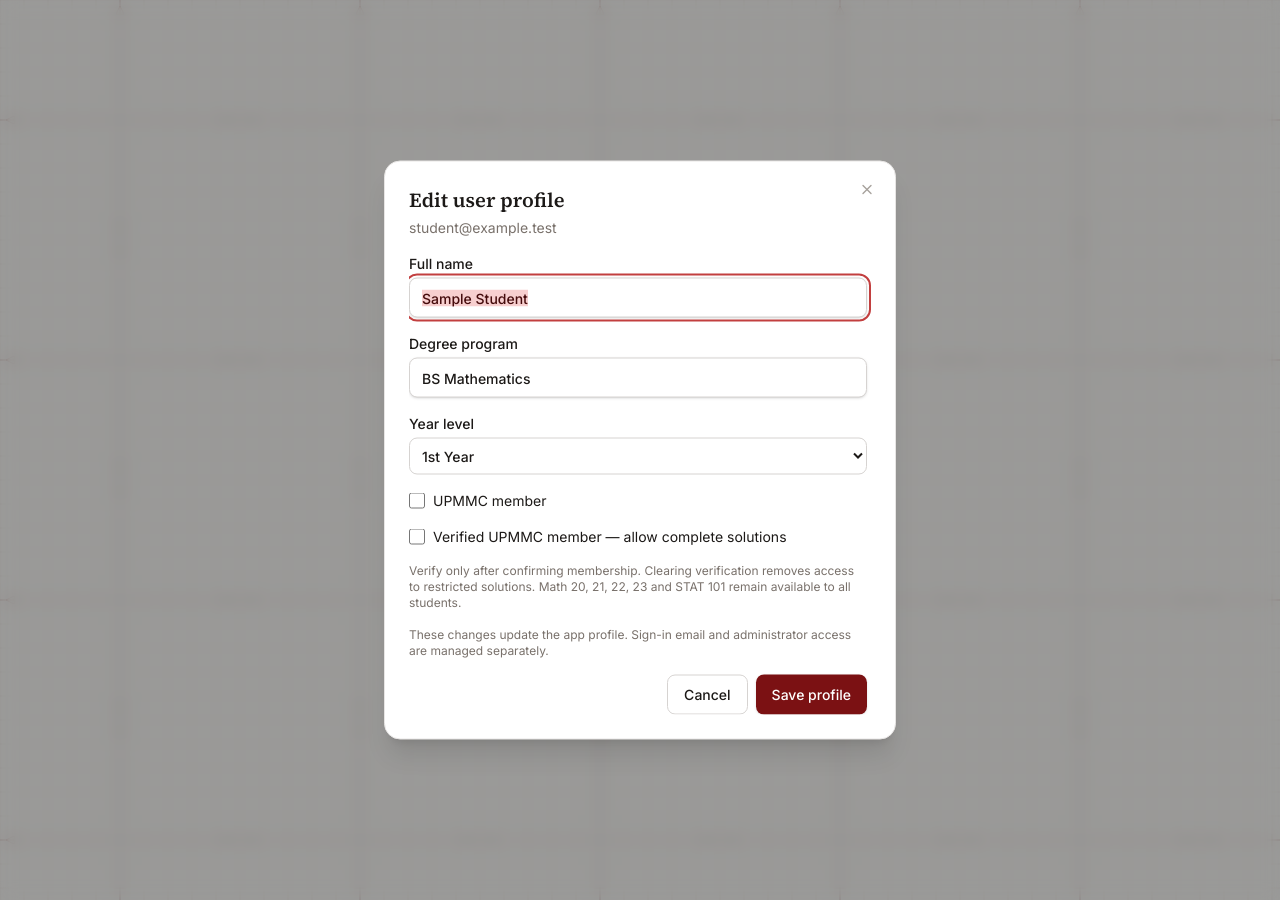
admin users › retains edits on conflict and does not claim success
This screenshot has width=1280, height=900.
Replace the text in the field labelled "Full name" with "My edit" at (638, 298), box [409,278,867,318]
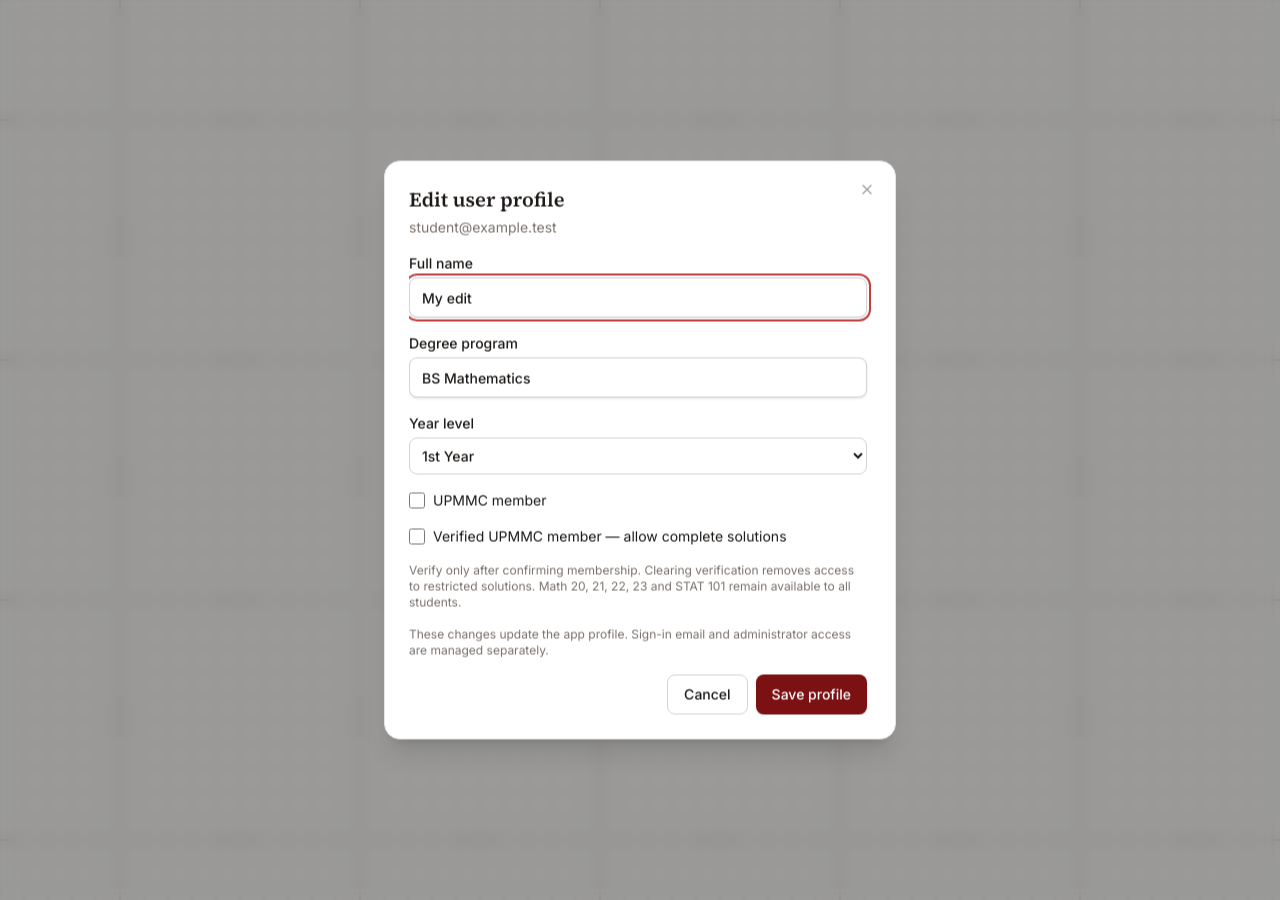
Click the button "Save profile".
click(811, 694)  # box [756,674,867,714]
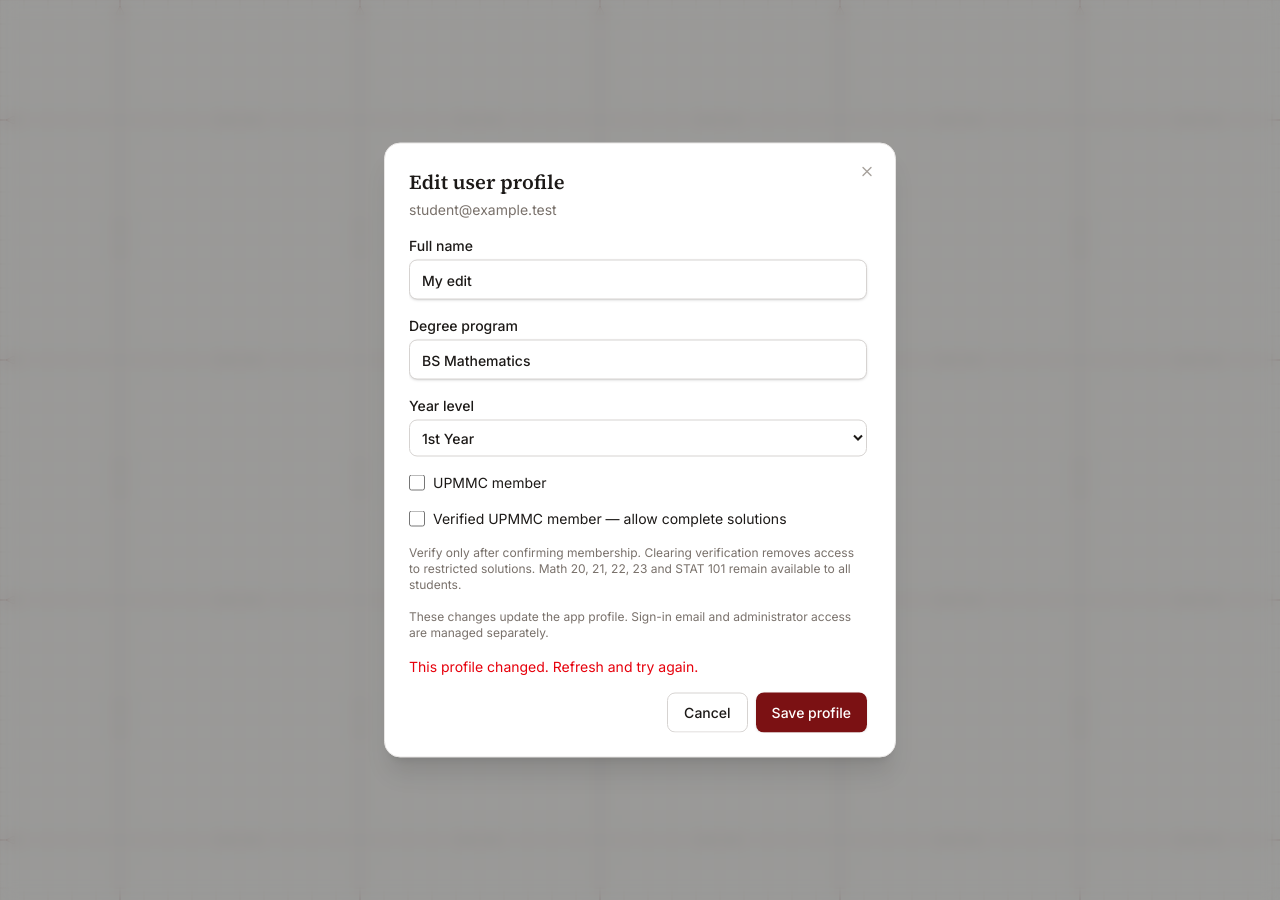
Expected: the message shows "profile changed", [409,658,698,674]
